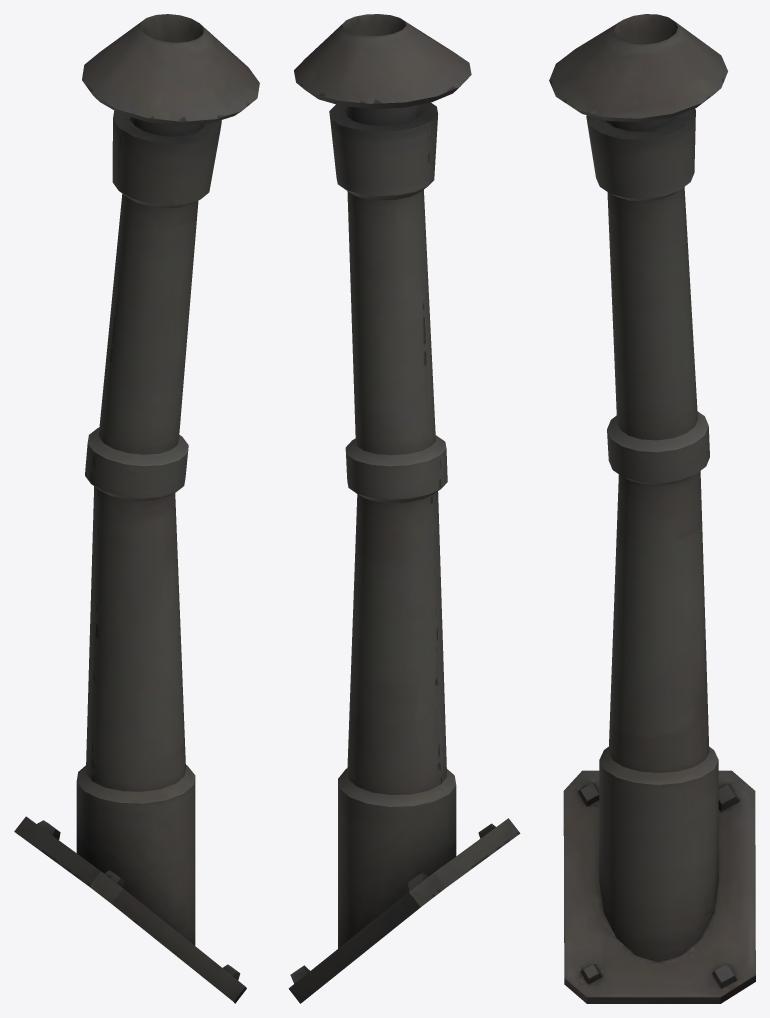
3 views of the same model, side by side, from view 1: azimuth 30°, elevation 25°; view 2: azimuth 150°, elevation 25°; view 3: azimuth 270°, elevation 25° (orthographic).
Parts seen in each view (by area): view 1: body0_model0_lod0_mesh0; view 2: body0_model0_lod0_mesh0; view 3: body0_model0_lod0_mesh0.
Part boxes in pixels (x1,y1,x2,y2): body0_model0_lod0_mesh0: (14,14,259,1003); body0_model0_lod0_mesh0: (288,14,520,1003); body0_model0_lod0_mesh0: (549,14,755,1003).
Size of the model in its own units: 27.9 by 137 by 26.7.
Materials: 1 (1 with a texture image).
